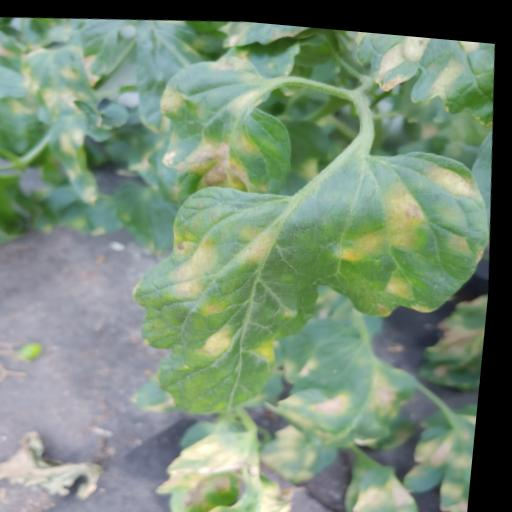Leaf Mold: (114, 119, 504, 437), (255, 302, 435, 487), (152, 43, 304, 207), (9, 38, 114, 211), (153, 405, 302, 512), (346, 25, 500, 126), (399, 389, 485, 512), (347, 448, 446, 512), (213, 15, 327, 52)
